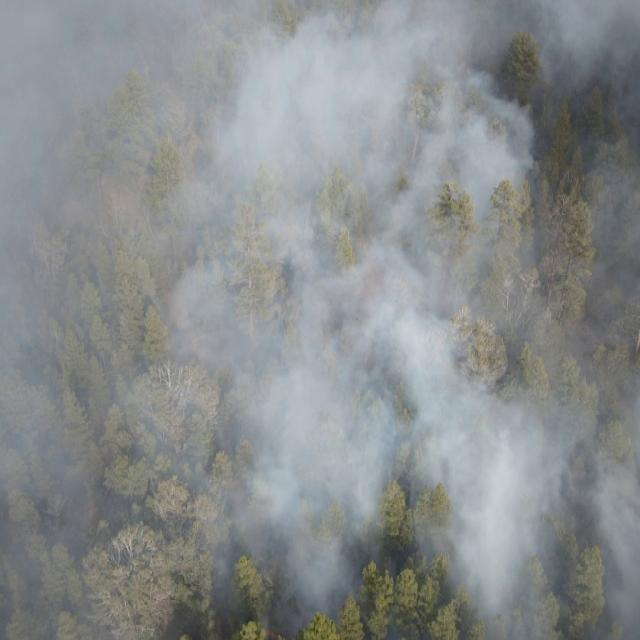smoke: (0, 0, 640, 560), (0, 560, 233, 640), (440, 558, 640, 640), (260, 560, 366, 622)
